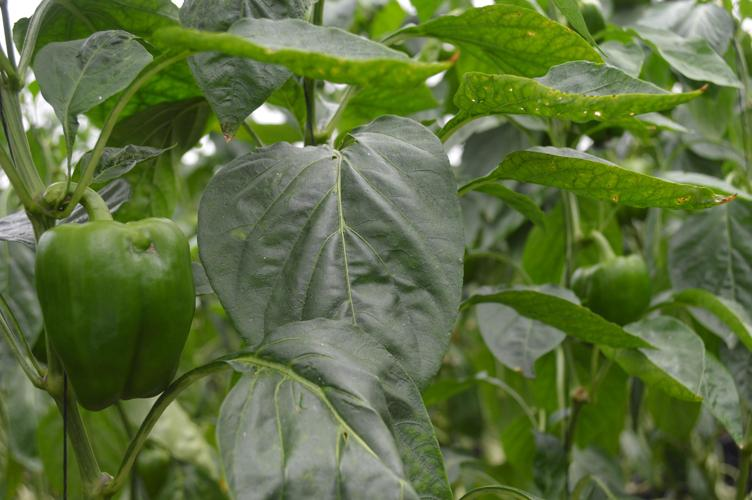BellPepper: (27, 218, 201, 407), (572, 244, 658, 359)
